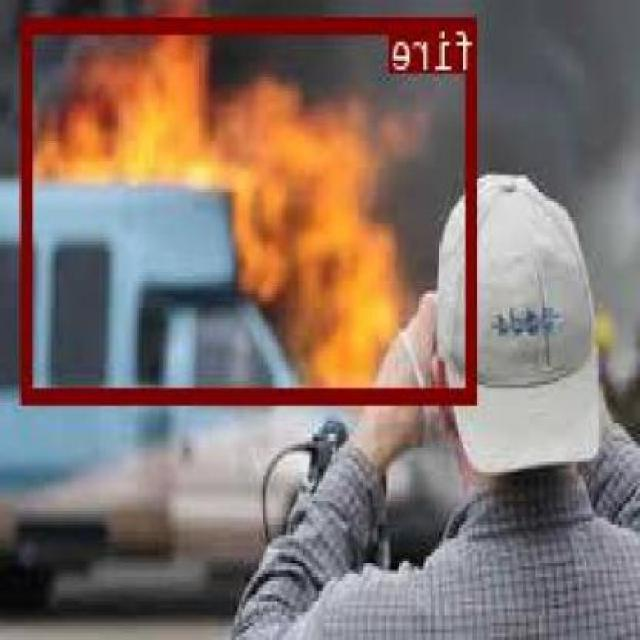Fire: (23, 15, 480, 402)
